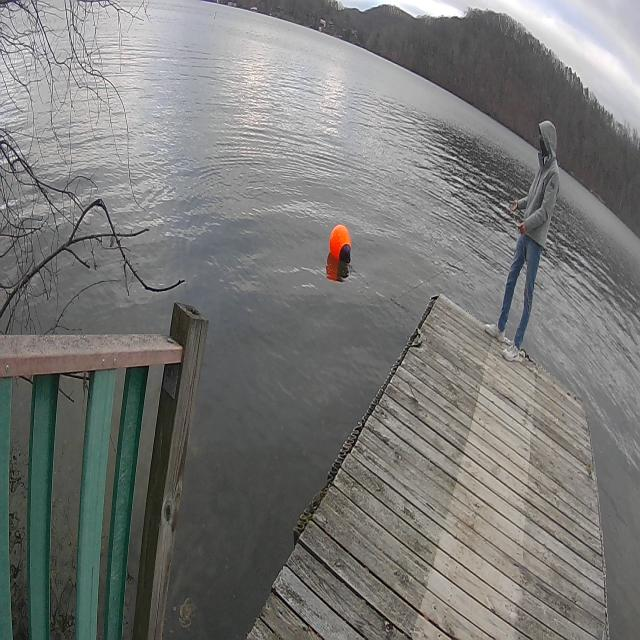Buoy: (325, 222, 358, 282)
